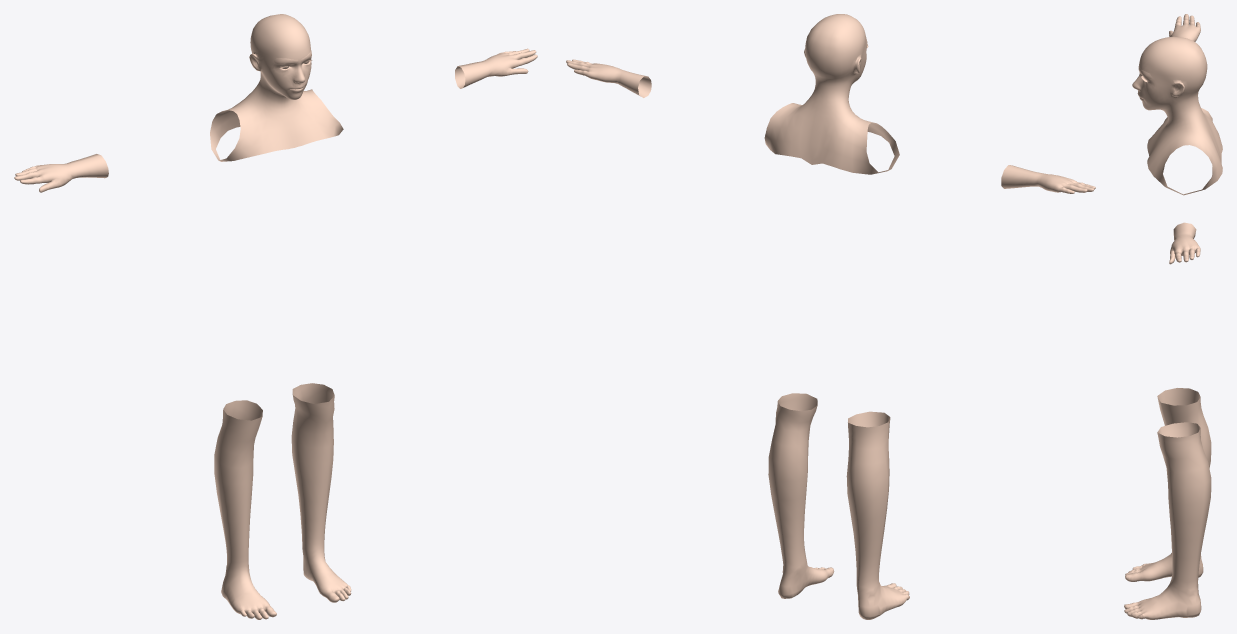
The model's file is avatar.glb.
The picture shows the model from 3 angles, left to right: view 1: azimuth 30°, elevation 25°; view 2: azimuth 150°, elevation 25°; view 3: azimuth 270°, elevation 25°; orthographic projection. The views are drawn at different scales.
Visible parts, largest first — view 1: SvendBodyLOD1.001; view 2: SvendBodyLOD1.001; view 3: SvendBodyLOD1.001.
Part boxes in pixels (x1,y1,x2,y2): SvendBodyLOD1.001: (14,14,537,619); SvendBodyLOD1.001: (566,14,1095,619); SvendBodyLOD1.001: (1124,14,1222,619).
Bounding box in the file's own units: 1.89 × 2 × 0.3213.
